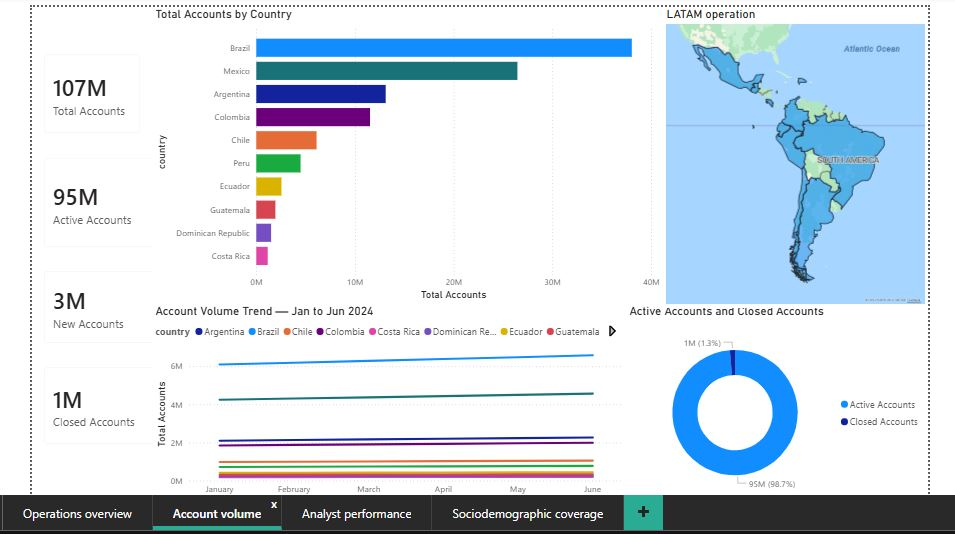

Layout of this report page (visuals, bound fields, positions):
{"tool":"powerbi","page":{"name":"Account volume","canvas":[1280,720],"ordinal":1},"visuals":[{"type":"cardVisual","fields":{"Data":["latam_operations_data.Total Accounts"]},"box":[0,50.4,171.3,147.8],"z":0},{"type":"cardVisual","fields":{"Data":["latam_operations_data.Active Accounts"]},"box":[0,198.2,193.2,161.3],"z":1},{"type":"cardVisual","fields":{"Data":["latam_operations_data.New Accounts"]},"box":[0,359.5,193.2,137.7],"z":2},{"type":"cardVisual","fields":{"Data":["latam_operations_data.Closed Accounts"]},"box":[0,497.2,196.5,144.5],"z":3},{"type":"barChart","title":"Total Accounts by Country","fields":{"Category":["latam_operations_data.country"],"Y":["latam_operations_data.Total Accounts"],"Series":["latam_operations_data.country"]},"box":[171.4,0,730,424.3],"z":4},{"type":"lineChart","title":"Account Volume Trend — Jan to Jun 2024","fields":{"Category":["latam_operations_data.month"],"Y":["latam_operations_data.Total Accounts"],"Series":["latam_operations_data.country"]},"box":[171.4,424.3,677.1,295.7],"z":5},{"type":"donutChart","fields":{"Y":["latam_operations_data.Active Accounts","latam_operations_data.Closed Accounts"]},"box":[848.6,424.3,431.4,291.4],"z":6},{"type":"azureMap","title":"LATAM operation","fields":{"Category":["latam_operations_data.country"]},"box":[901.4,0,378.6,428.6],"z":7}]}

Visuals, with their boxes on the page's 1280x720 design canvas (x1, y1, x2, y2). These are canvas units, not pixel positions in the 955x534 screenshot, which may show the page scaled, cropped or inside an application window:
cardVisual - latam_operations_data.Total Accounts: left=0, top=50, right=171, bottom=198
cardVisual - latam_operations_data.Active Accounts: left=0, top=198, right=193, bottom=360
cardVisual - latam_operations_data.New Accounts: left=0, top=360, right=193, bottom=497
cardVisual - latam_operations_data.Closed Accounts: left=0, top=497, right=196, bottom=642
"Total Accounts by Country" barChart: left=171, top=0, right=901, bottom=424
"Account Volume Trend — Jan to Jun 2024" lineChart: left=171, top=424, right=848, bottom=720
donutChart - latam_operations_data.Active Accounts x latam_operations_data.Closed Accounts: left=849, top=424, right=1280, bottom=716
"LATAM operation" azureMap: left=901, top=0, right=1280, bottom=429
